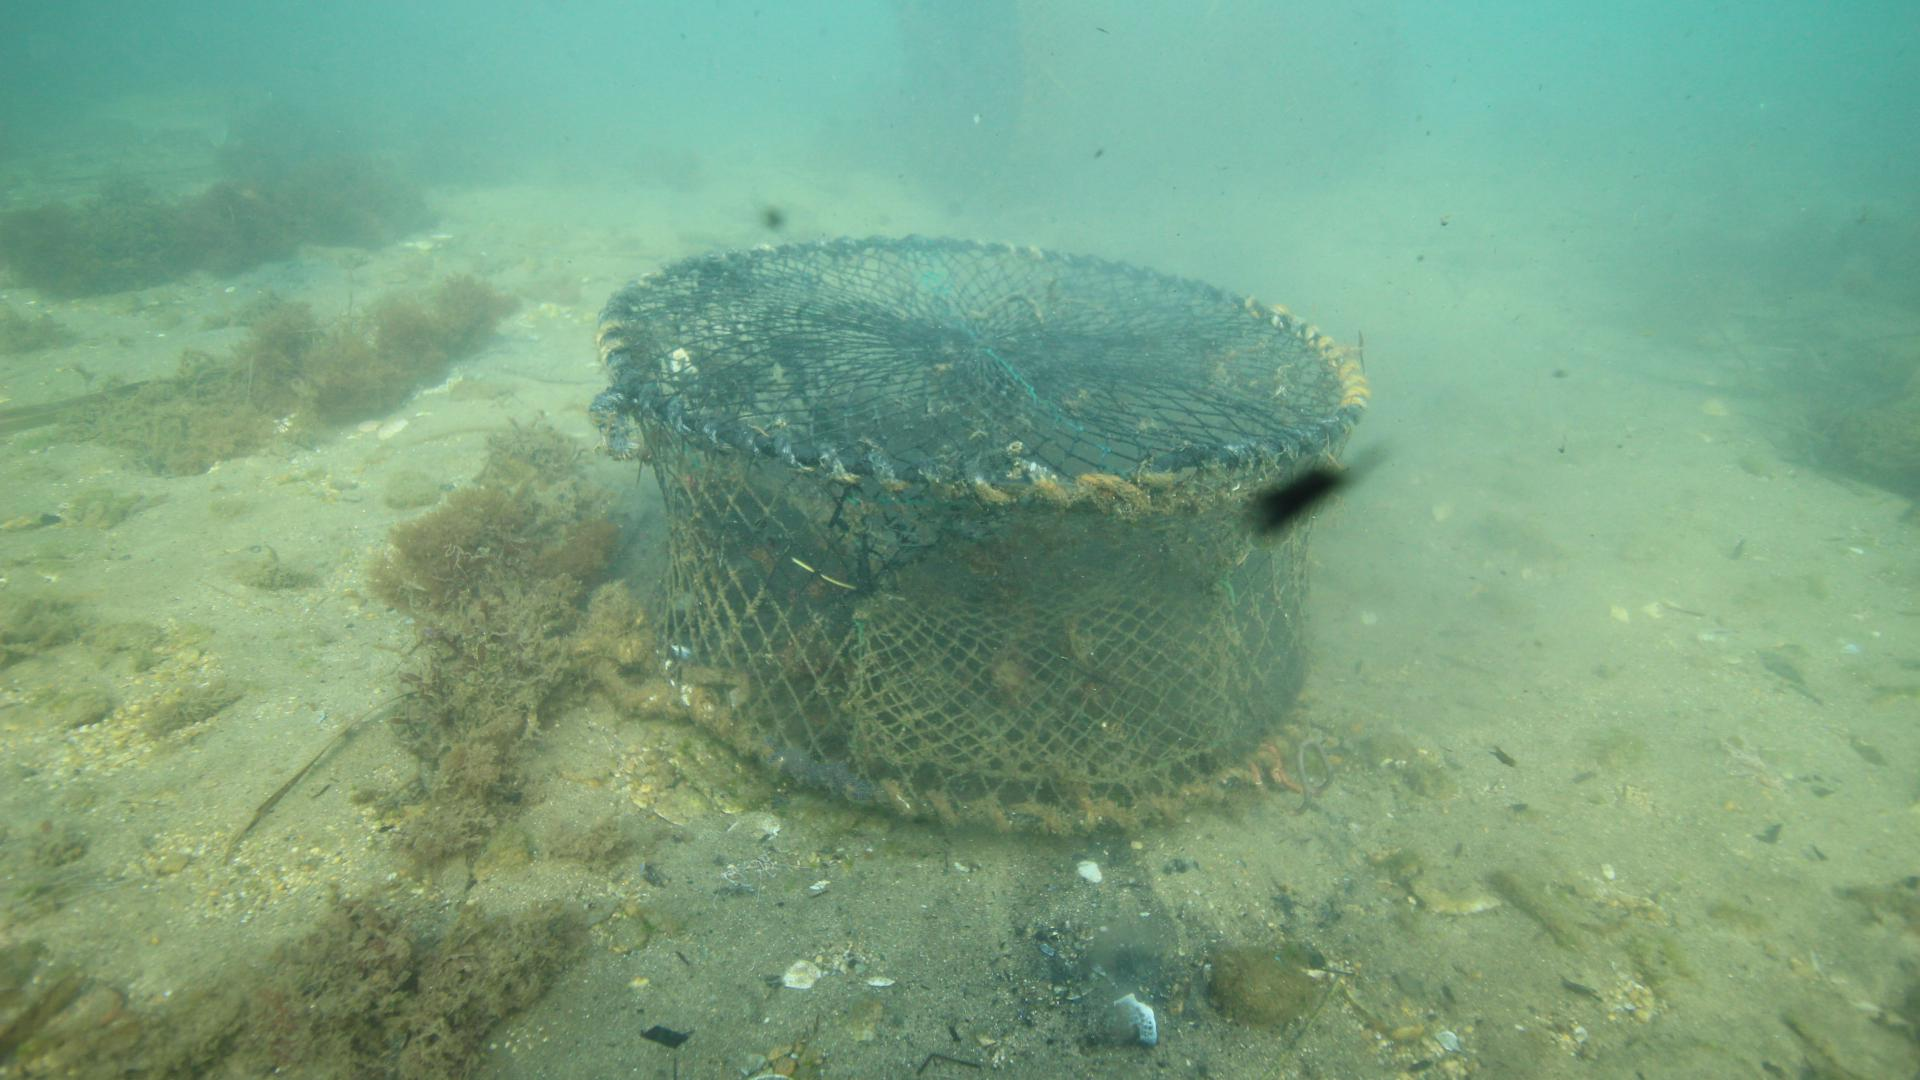circular fish trap: (592, 229, 1371, 840)
